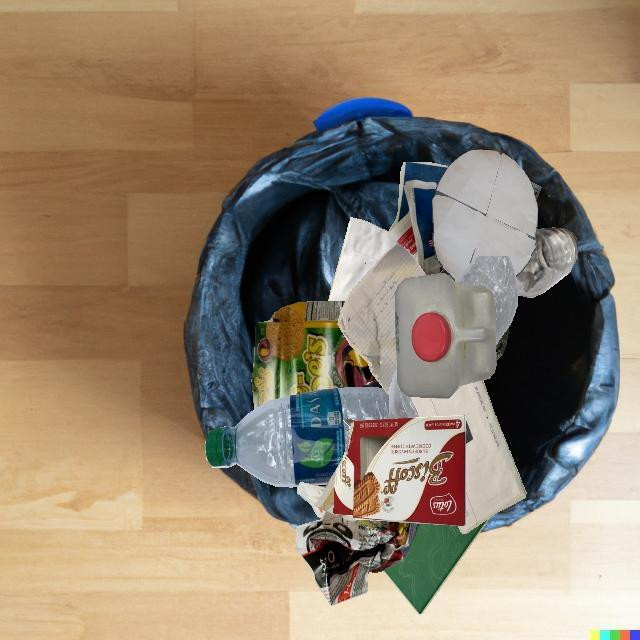cardboard: (333, 415, 466, 526), (251, 301, 378, 409)
glass: (515, 227, 577, 298), (361, 381, 383, 388)
paper: (296, 455, 419, 606), (410, 380, 526, 534), (429, 182, 531, 349), (432, 149, 538, 281), (338, 242, 426, 396), (382, 517, 490, 615), (388, 162, 449, 261), (328, 217, 395, 301)
plastic: (205, 387, 389, 487), (396, 273, 496, 399), (454, 256, 518, 344), (383, 368, 420, 419)
